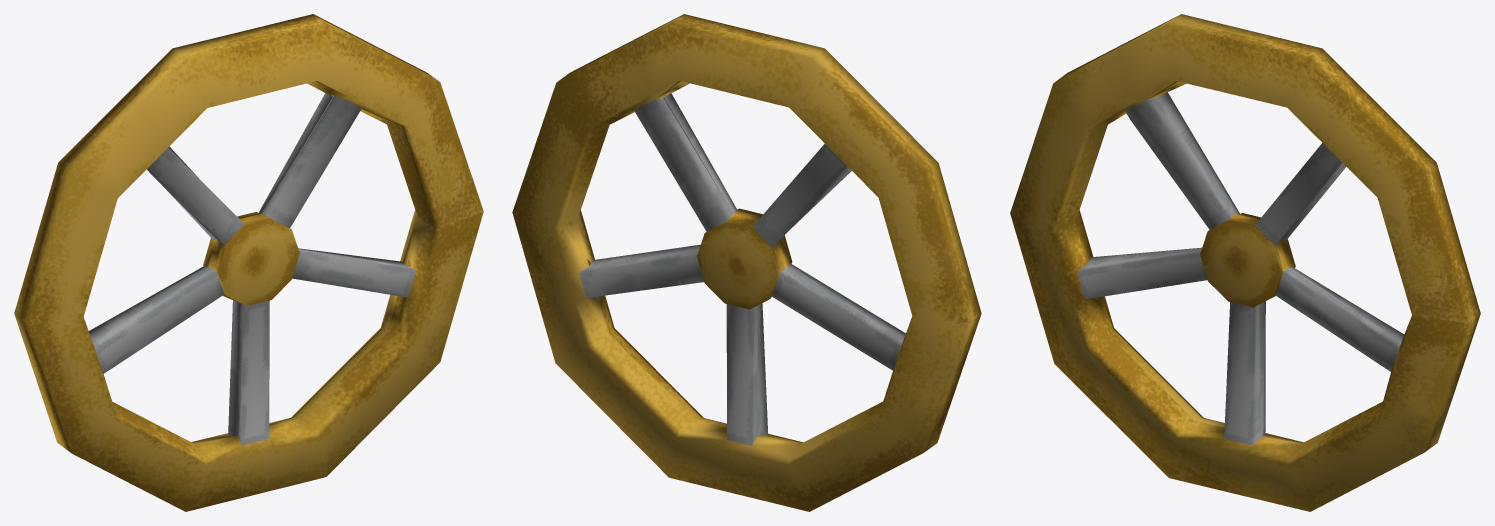
The model's file is CamsValve.fbx.
3 renders of one model, left to right at view 1: azimuth 30°, elevation 25°; view 2: azimuth 150°, elevation 25°; view 3: azimuth 330°, elevation 25°, orthographic.
Parts seen in each view (by area): view 1: pTorus4; view 2: pTorus4; view 3: pTorus4.
Part boxes in pixels (<box>): pTorus4: <box>14,14,483,511</box>; pTorus4: <box>512,14,981,511</box>; pTorus4: <box>1010,14,1480,511</box>.
Bounding box in the file's own units: 154 × 146 × 16.46.
